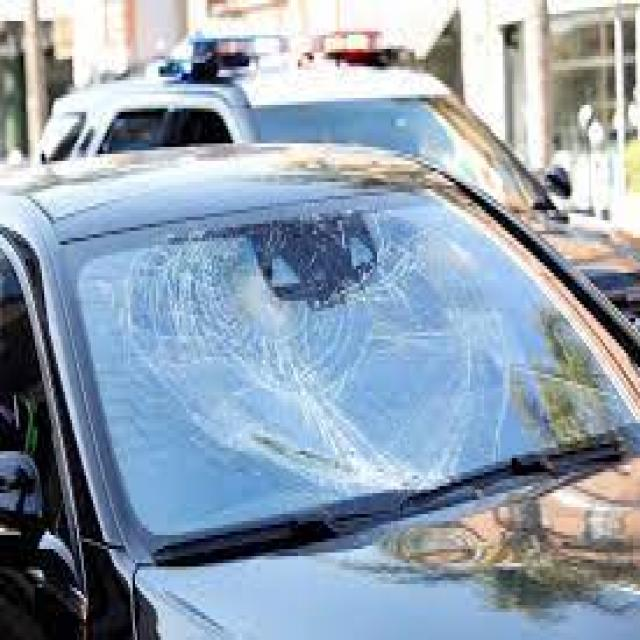minor: (54, 204, 559, 528)
